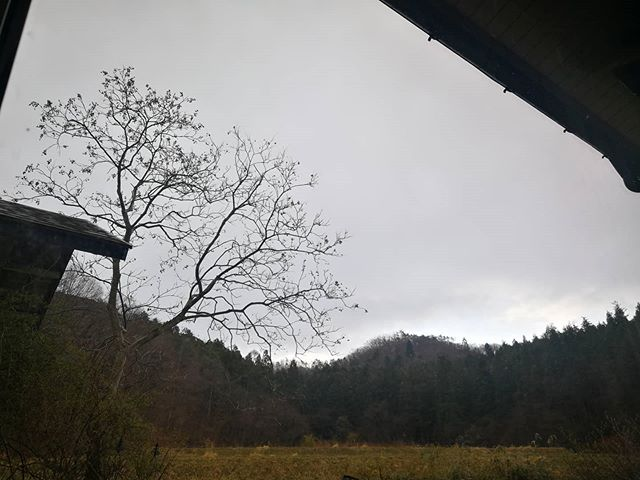sky: (45, 1, 624, 311)
tree: (27, 90, 321, 449)
vegetation: (79, 299, 635, 435)
